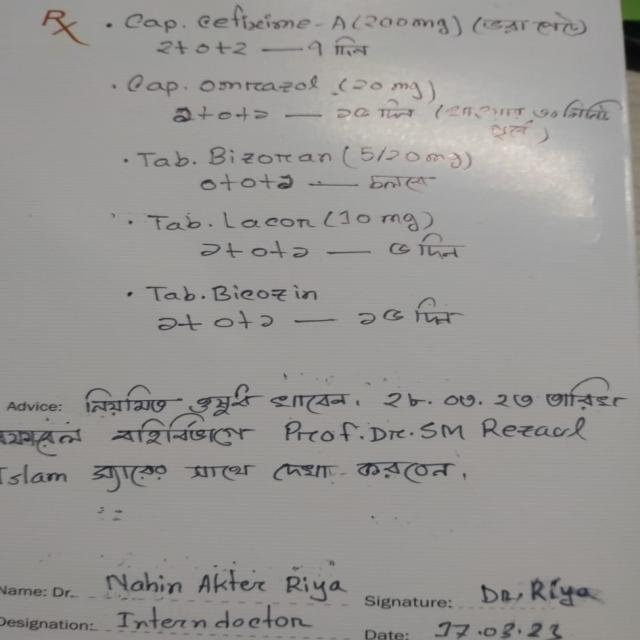Bicozin: (203, 276, 328, 313)
Bizoran: (204, 137, 342, 169)
Cefixim: (193, 10, 355, 37)
Lacor: (221, 209, 321, 239)
Omrazol: (190, 70, 333, 101)
